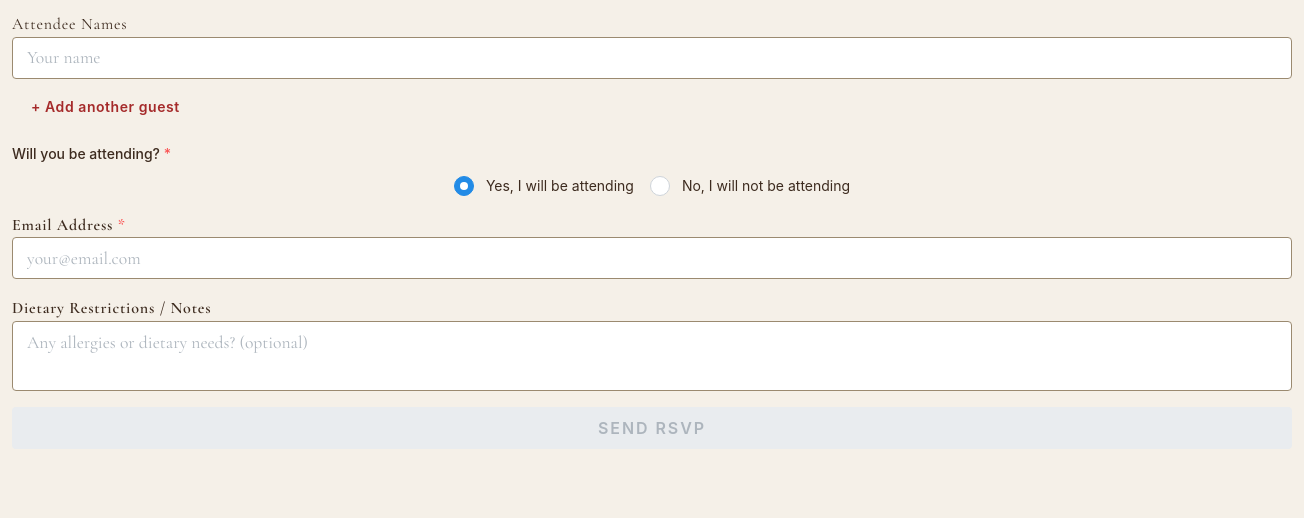
Test: RsvpForm › guest list › adds a second guest input when "+ Add another guest" is clicked
The width and height of the screenshot is (1304, 518).
Click the button "+ Add another guest" at [105, 107], box [12, 89, 199, 125]
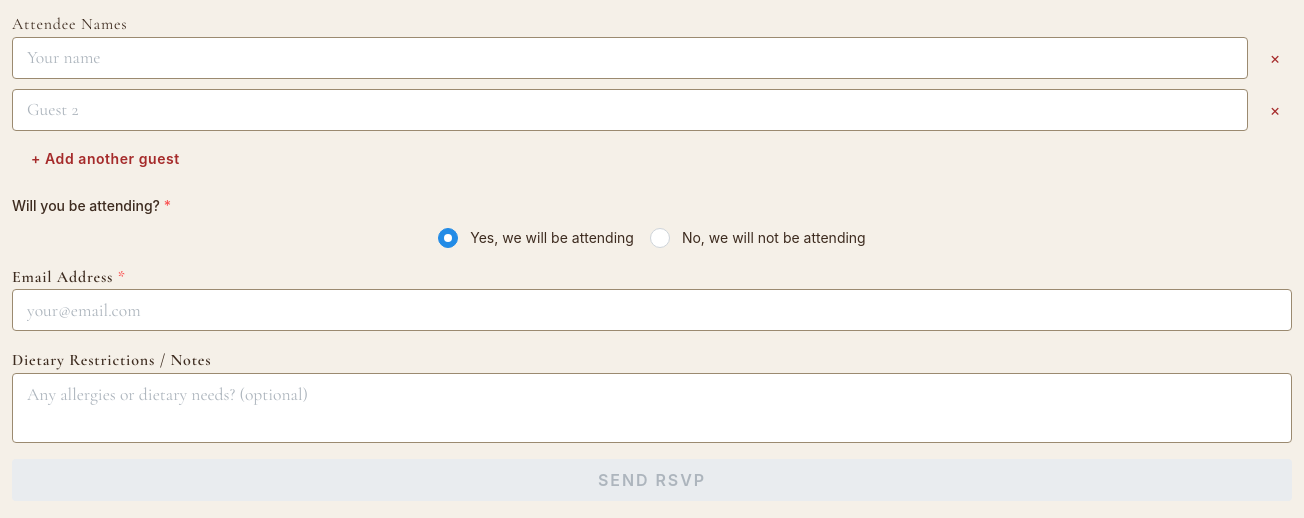
expect the field with placeholder "Guest 2" is shown: met, box [12, 89, 1248, 131]
